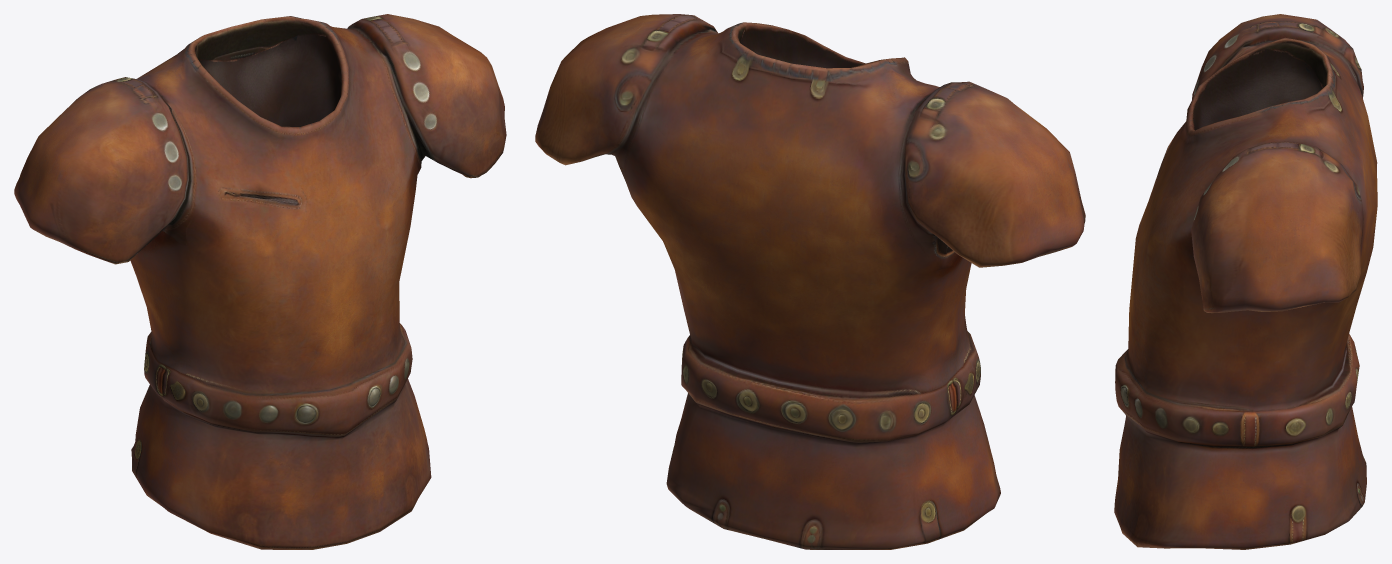
File: body-leather-01-leather_backup.glb
The picture shows the model from 3 angles, left to right: view 1: azimuth 30°, elevation 25°; view 2: azimuth 150°, elevation 25°; view 3: azimuth 270°, elevation 25°; orthographic projection. The views are drawn at different scales.
Size of the model in its own units: 1.98 by 1.84 by 0.9614.
1 material, 1 textured.
